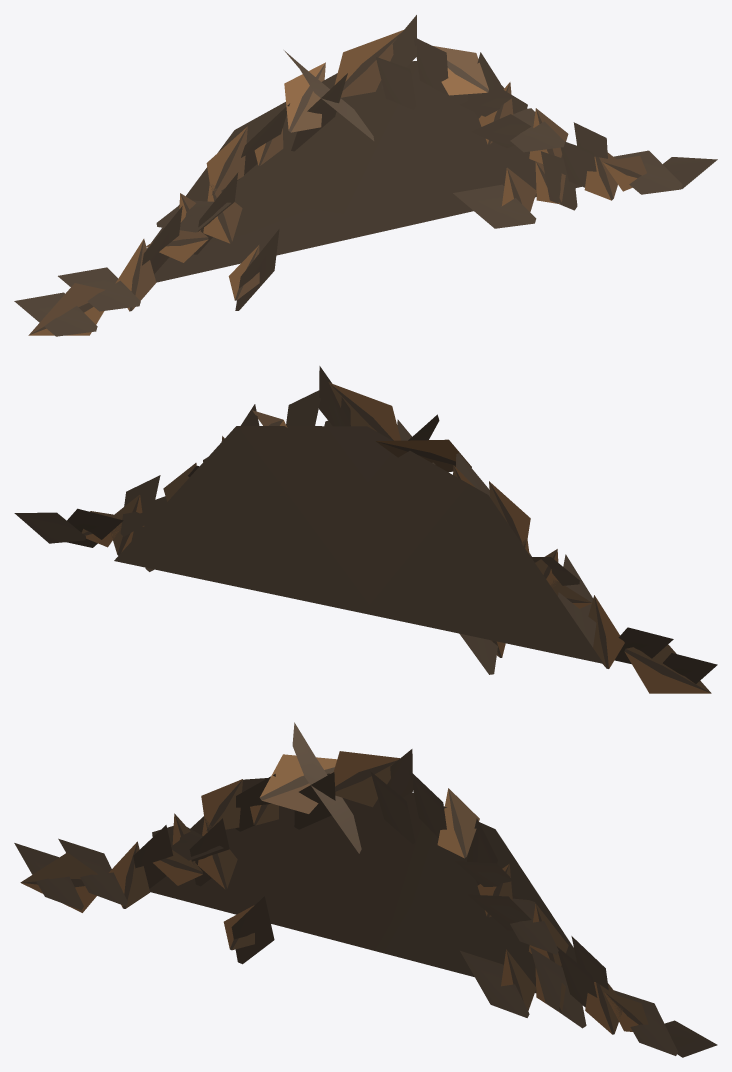
Rendered from pile_of_leaves.FBX.
3 renders of one model, top to bottom at view 1: azimuth 30°, elevation 25°; view 2: azimuth 150°, elevation 25°; view 3: azimuth 330°, elevation 25°, orthographic.
Parts seen in each view (by area): view 1: pile_of_leaves; view 2: pile_of_leaves; view 3: pile_of_leaves.
Boxes of the visible parts, x1,y1,x2,y2 form: pile_of_leaves: [14, 15, 717, 336]; pile_of_leaves: [14, 366, 717, 693]; pile_of_leaves: [14, 722, 717, 1057].
Bounding box in the file's own units: 256 × 90.51 × 18.54.
Materials: 1 (1 with a texture image).
